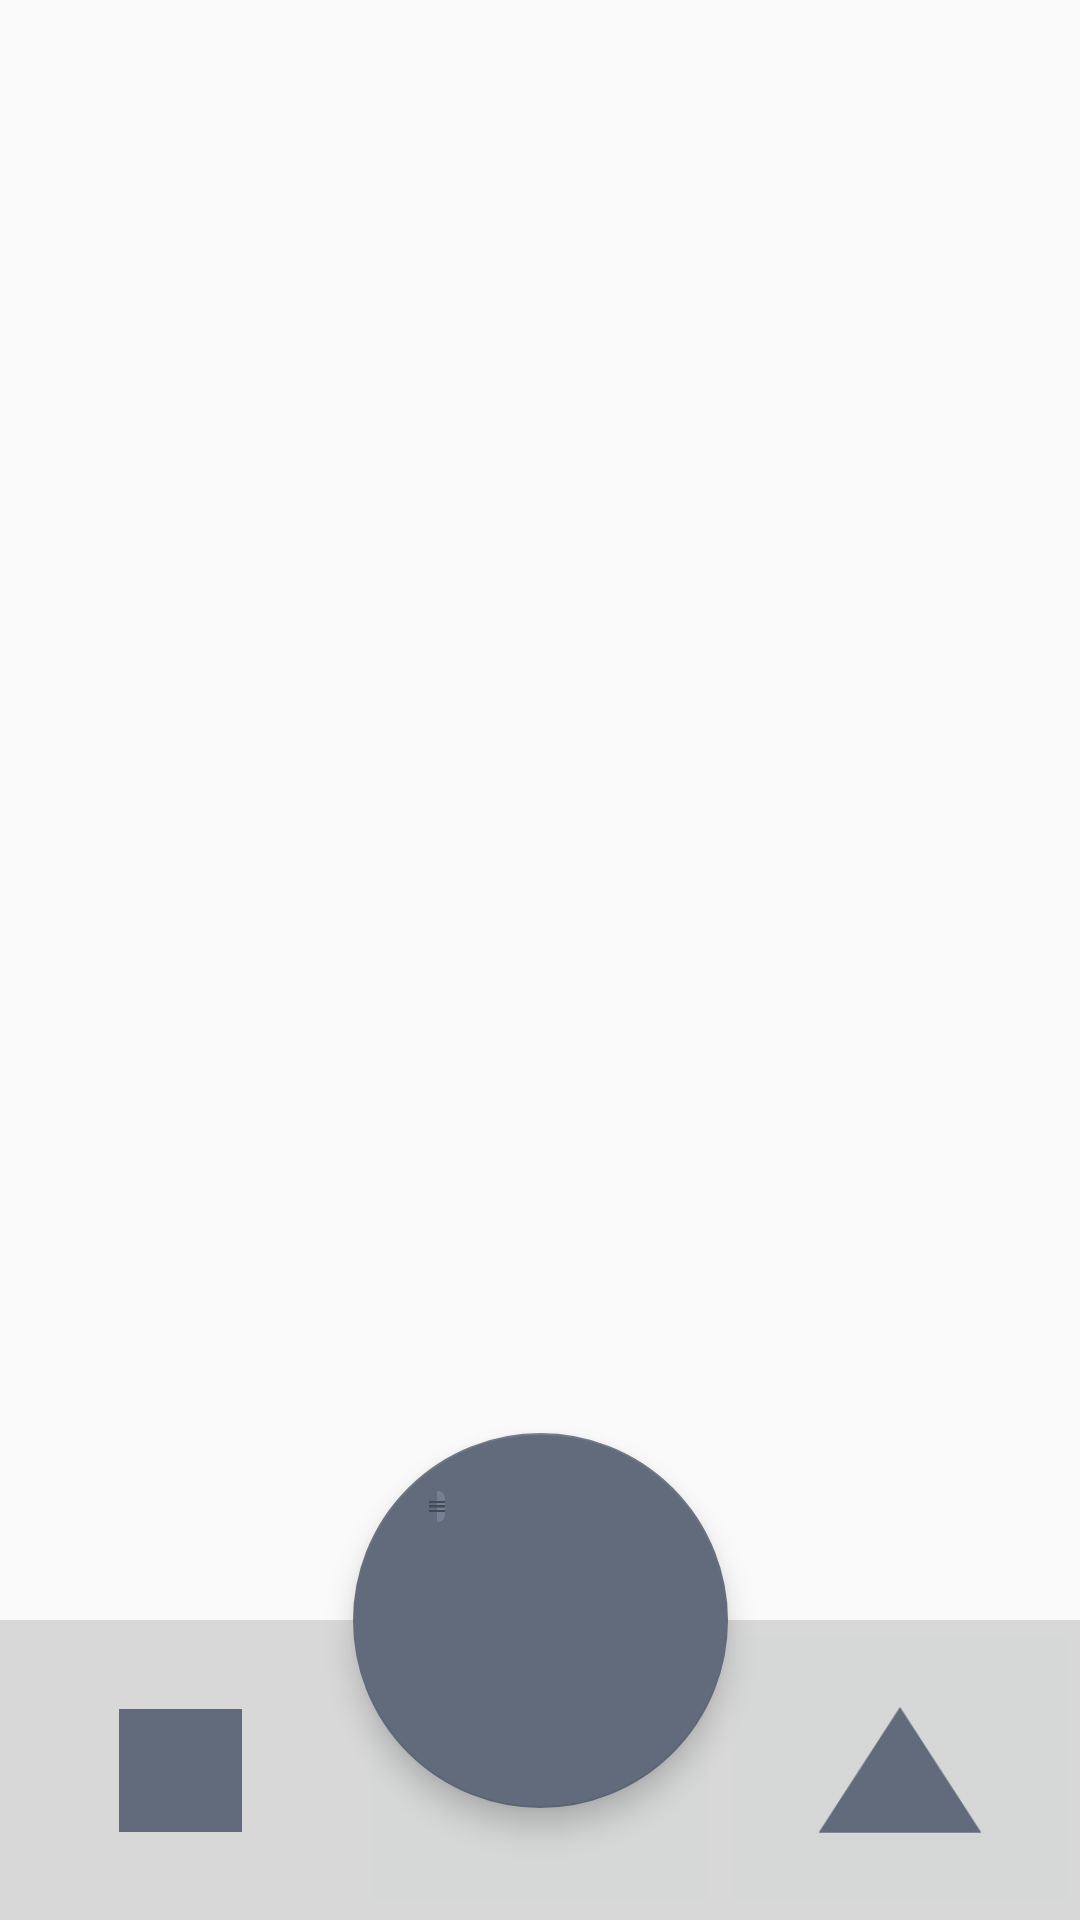

Screen size 1080 × 1920. Icon name, then its box in pixels as (x1, y1, x2, y2):
triangle: (819, 1707, 981, 1833)
